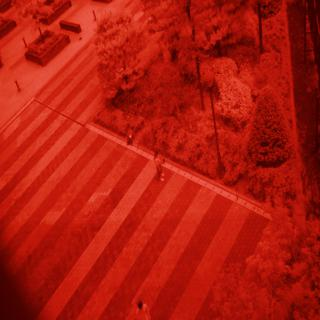person: (146, 141, 169, 189), (124, 292, 157, 320)
